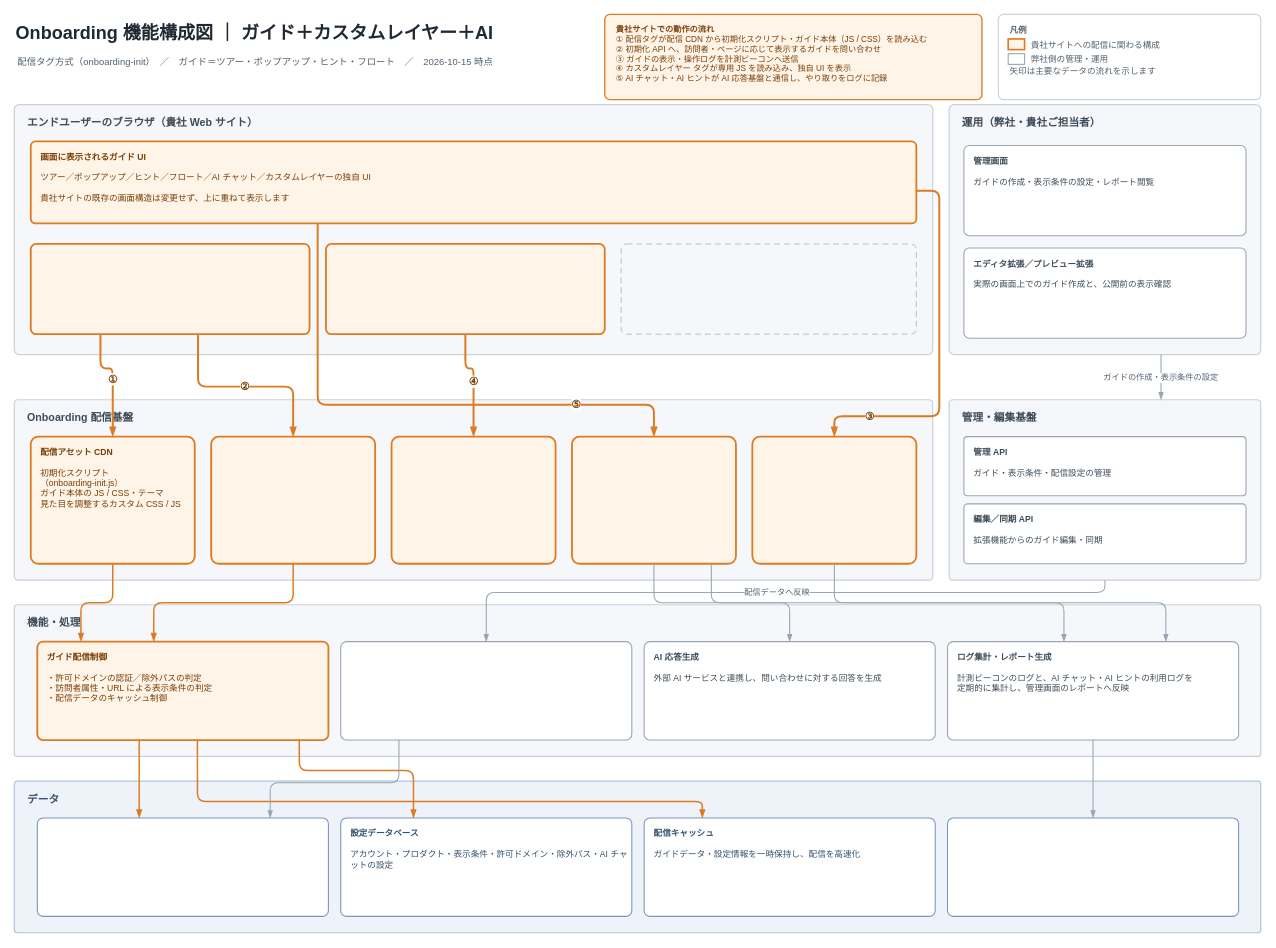
The diagram is 1276 pixels wide and 948 high, and some of its shapes have lost their labels. The shapes that lost their labels are listed below. From the top down, each one's centre as x and y in pixels, then its label:
At [169,289]: "① 配信タグ 貴社サイトに設置する script タグ 1 行 初期化スクリプト（onboarding-init.js）を読み込む".
At [465,289]: "④ カスタムレイヤー タグ 貴社向けに個別開発した JS を読み込む script タグ 専用 ID ごとに配信".
At [768,288]: "貴社サイトに設置いただくのは、この 2 行 のタグのみです。 既存ページの HTML・CSS・JavaScript の改修は必要ありません。".
At [293,499]: "初期化 API ・許可ドメインの認証 ・訪問者・ページによる表示判定 ・ガイド定義の返却 （ツアー／ポップアップ／ ヒント／フロート）".
At [473,499]: "カスタムレイヤー CDN 貴社専用 JS の配信 既存サイトと影響し合わないよう分離して動作".
At [653,499]: "AI 応答基盤 AI チャット・AI ヒントの応答を リアルタイムに返却 （WebSocket 接続） やり取りの内容をログに記録".
At [834,499]: "計測ビーコン ガイドの表示・操作ログを受信".
At [486,690]: "ガイド管理・公開 管理画面・拡張機能で編集した内容を、配信用データへ反映".
At [182,867]: "ガイドデータ ツアー／ポップアップ／ヒント／フロートの定義、デザインテーマ、カスタム CSS・JS".
At [1093,867]: "ログ／レポートデータ ガイドの表示・操作ログ、AI チャット・AI ヒントの利用ログ、集計済みレポート".
